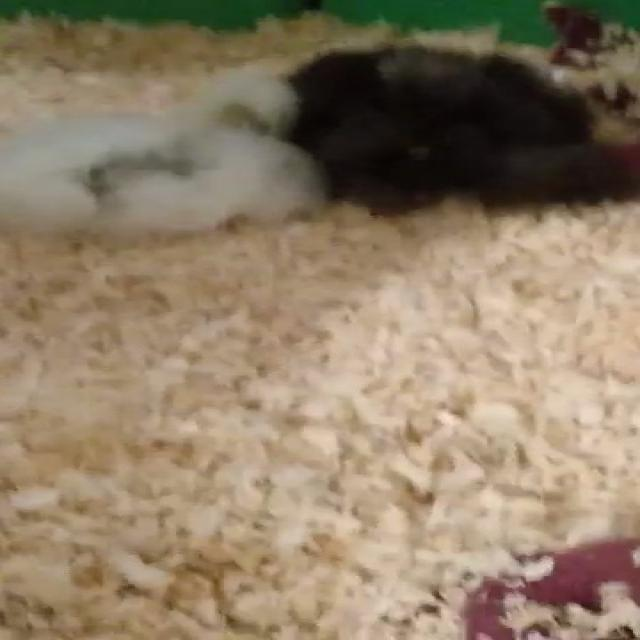allo preening: (0, 54, 640, 218)
